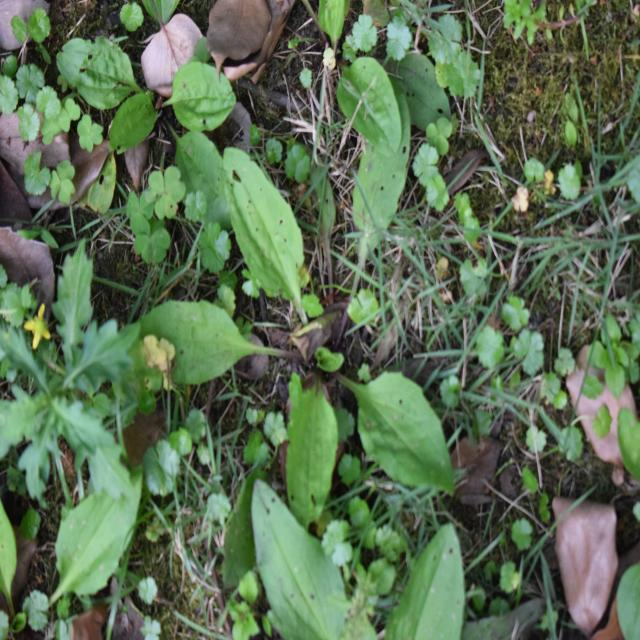plantain: (138, 175, 448, 529)
